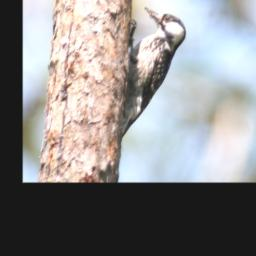Woodpecker: (121, 6, 187, 145)
